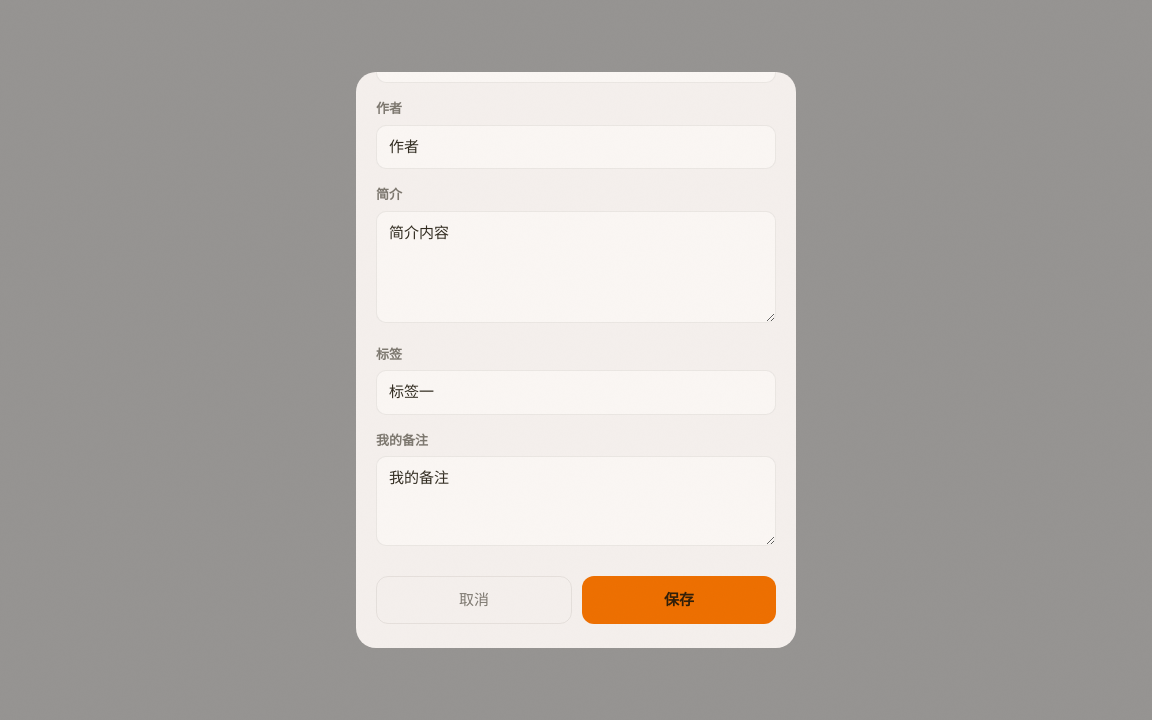
BookEditModal › shows 保存中… and disables button while saving
(page scrolled)
Click the button "保存".
click(679, 600)  # box [582,576,776,624]
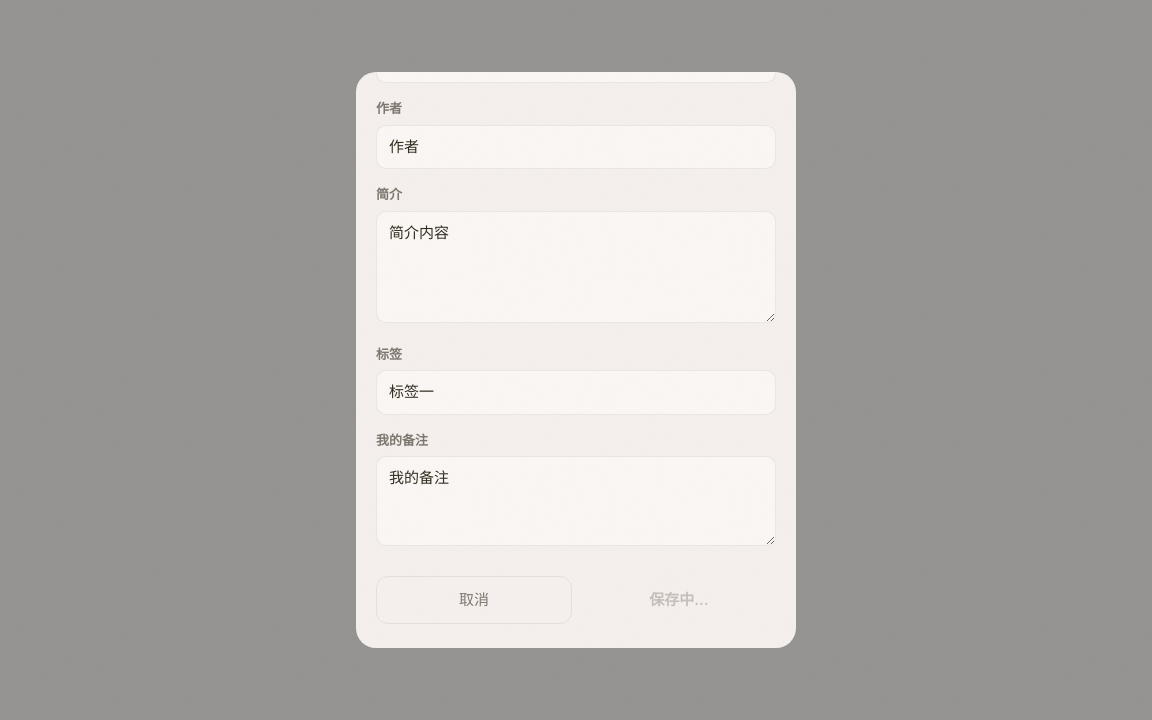
Expected: the button "保存中…" is disabled, [582,576,776,624]
